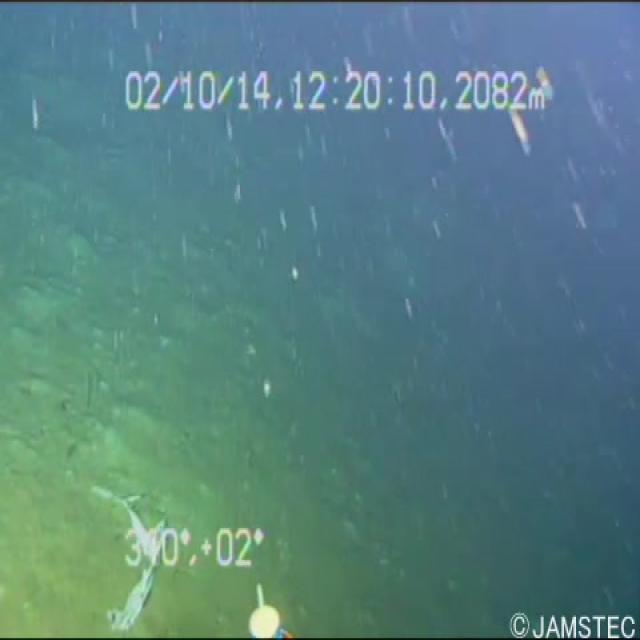plastic: (72, 478, 185, 638)
